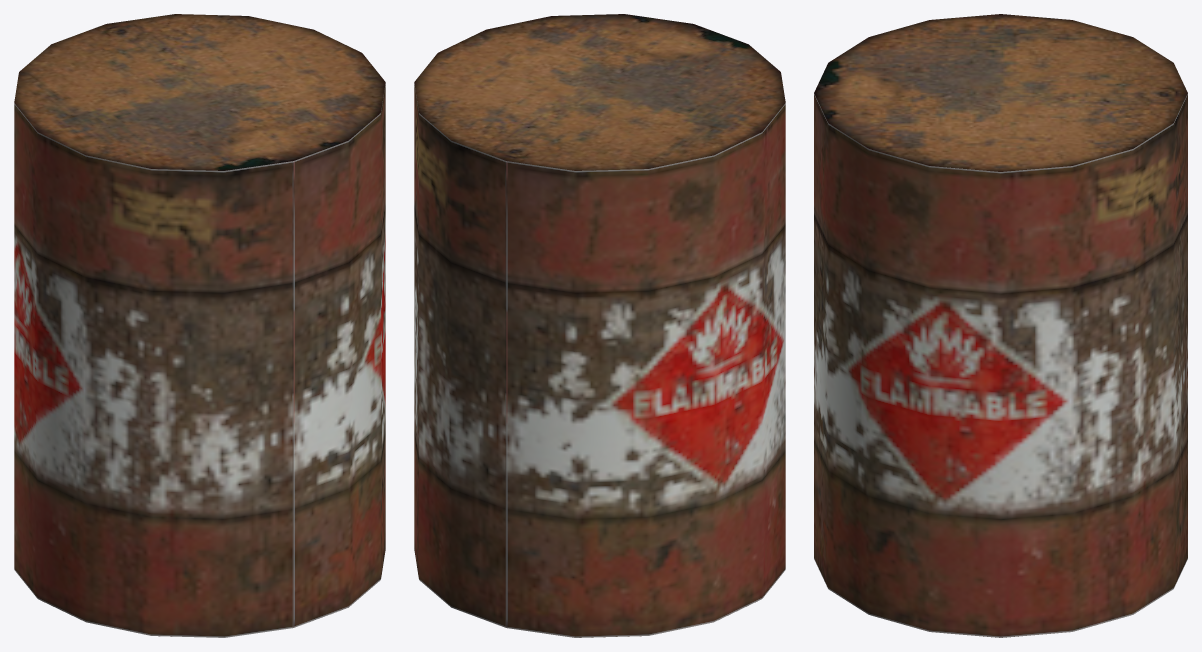
The model's file is Barrel.fbx.
The picture shows the model from 3 angles, left to right: view 1: azimuth 30°, elevation 25°; view 2: azimuth 150°, elevation 25°; view 3: azimuth 270°, elevation 25°; orthographic projection.
Visible parts, largest first — view 1: Barrel.001; view 2: Barrel.001; view 3: Barrel.001.
Boxes of the visible parts, left/top/right/bottom form: Barrel.001: left=14, top=14, right=385, bottom=637; Barrel.001: left=414, top=14, right=785, bottom=637; Barrel.001: left=814, top=14, right=1187, bottom=637.
Bounding box in the file's own units: 80 × 110 × 80.
Materials: 1 (1 with a texture image).
